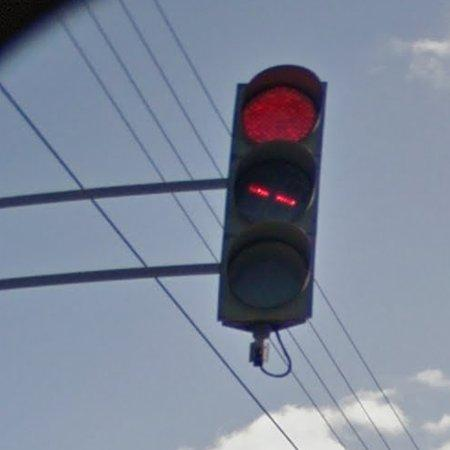traffic lights: (218, 65, 327, 368)
